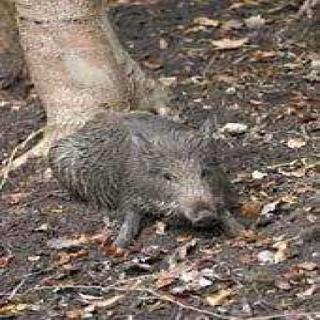Pig: (38, 82, 230, 257)
